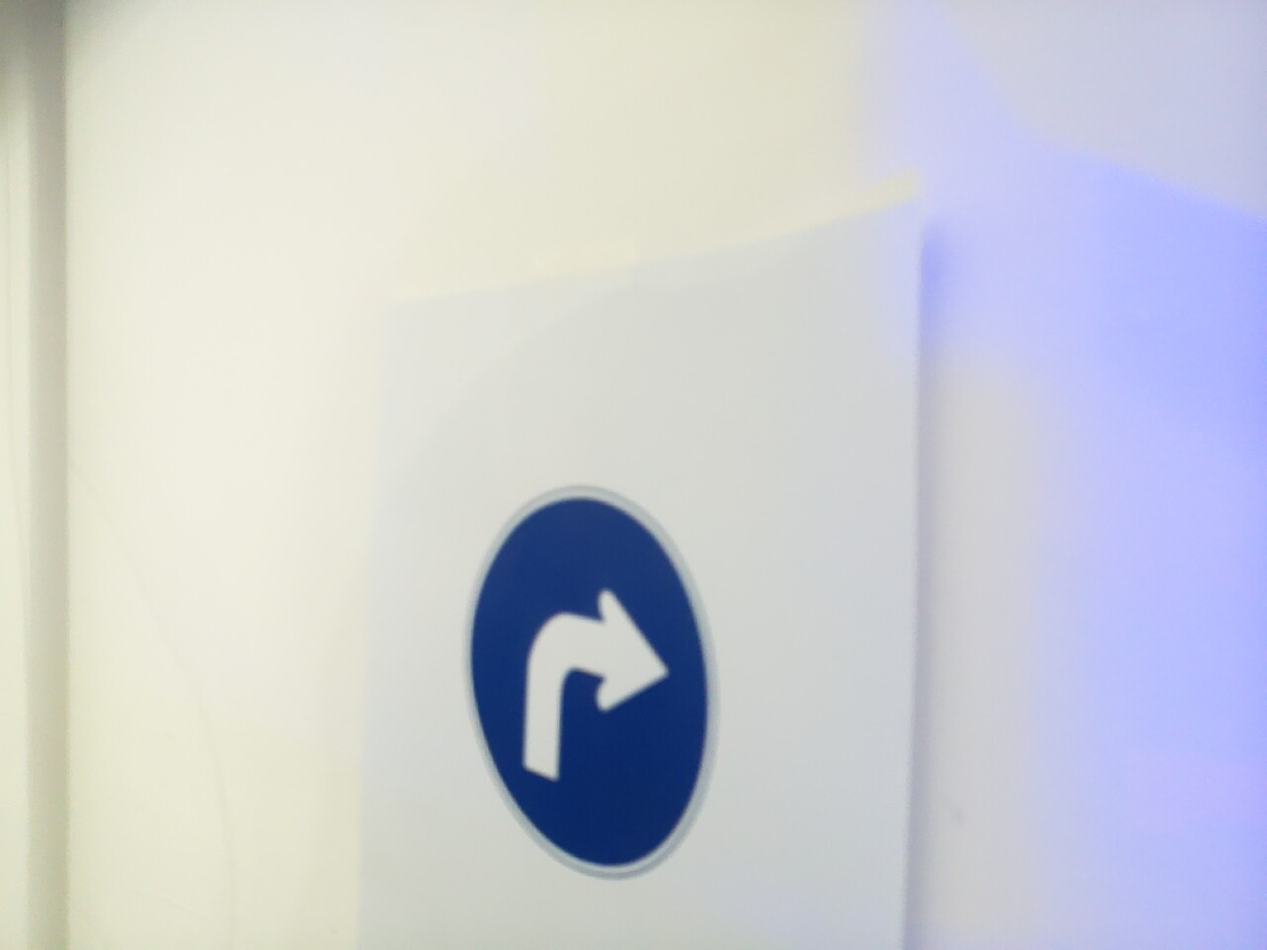right_turn: (462, 486, 716, 878)
